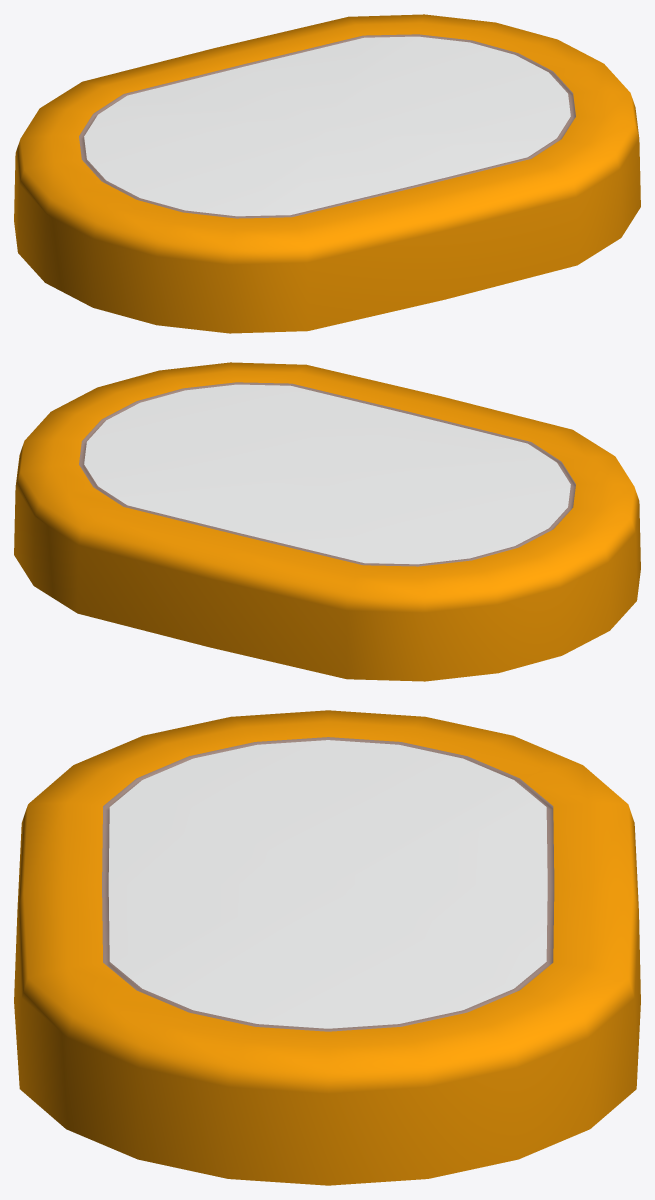
Rendered from start.fbx.
The picture shows the model from 3 angles, top to bottom: view 1: azimuth 30°, elevation 25°; view 2: azimuth 150°, elevation 25°; view 3: azimuth 270°, elevation 25°; orthographic projection. The views are drawn at different scales.
Parts seen in each view (by area): view 1: start; view 2: start; view 3: start.
Part boxes in pixels (x1=…): start: x1=14, y1=14, x2=640, y2=333; start: x1=14, y1=362, x2=640, y2=681; start: x1=14, y1=710, x2=640, y2=1185.
Size of the model in its own units: 3562 by 528 by 2562.
Materials: 1 (1 with a texture image).
